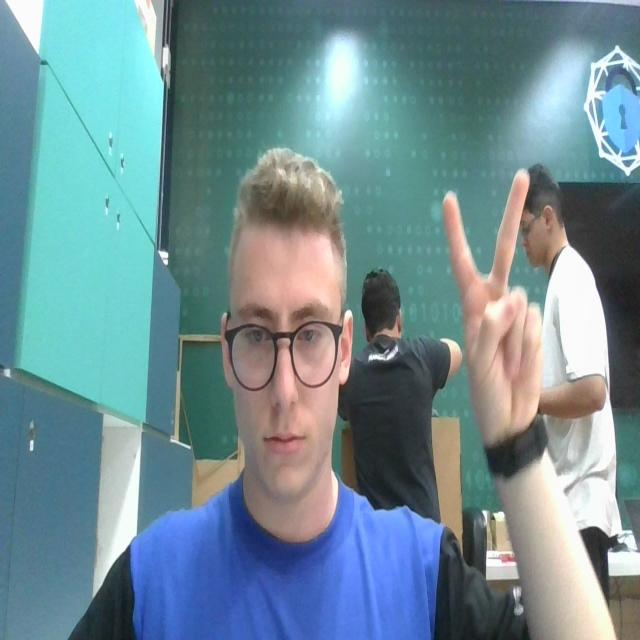V: (440, 165, 549, 443)
